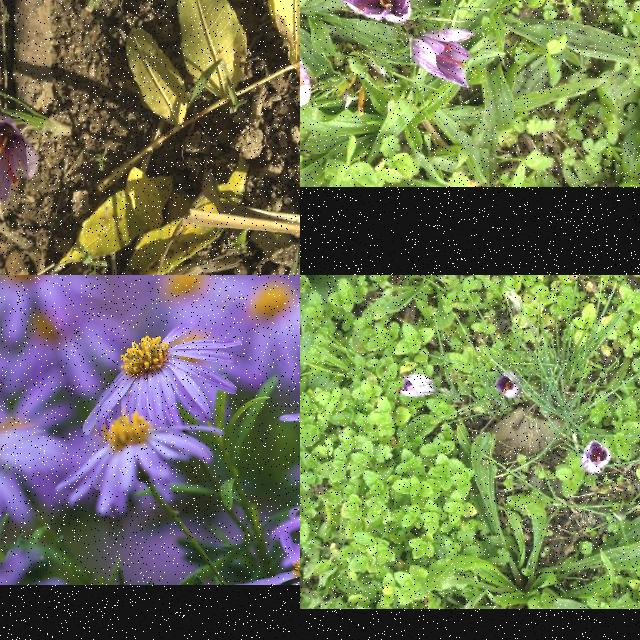flower: (412, 28, 473, 90), (0, 102, 27, 212), (341, 0, 412, 22), (581, 440, 611, 476), (398, 374, 432, 400), (494, 373, 522, 399)
